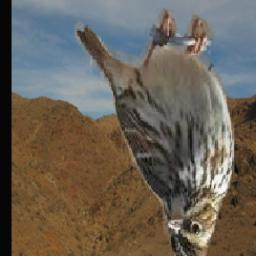Sparrow: (74, 8, 240, 256)
